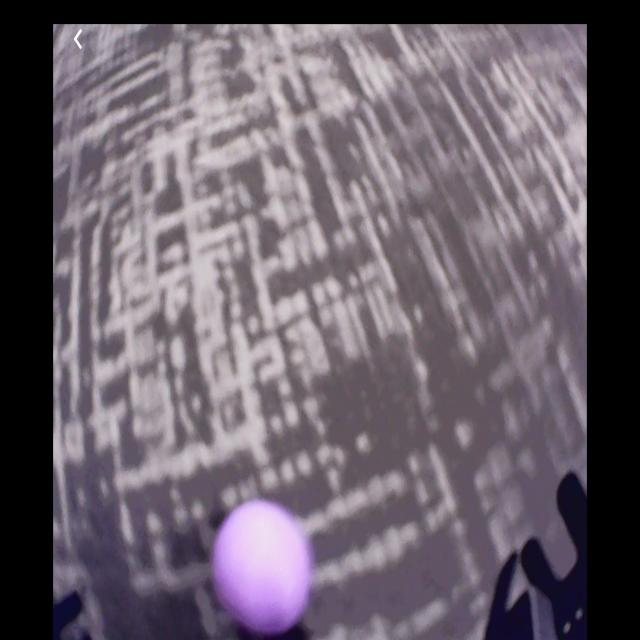ball: (216, 501, 313, 630)
